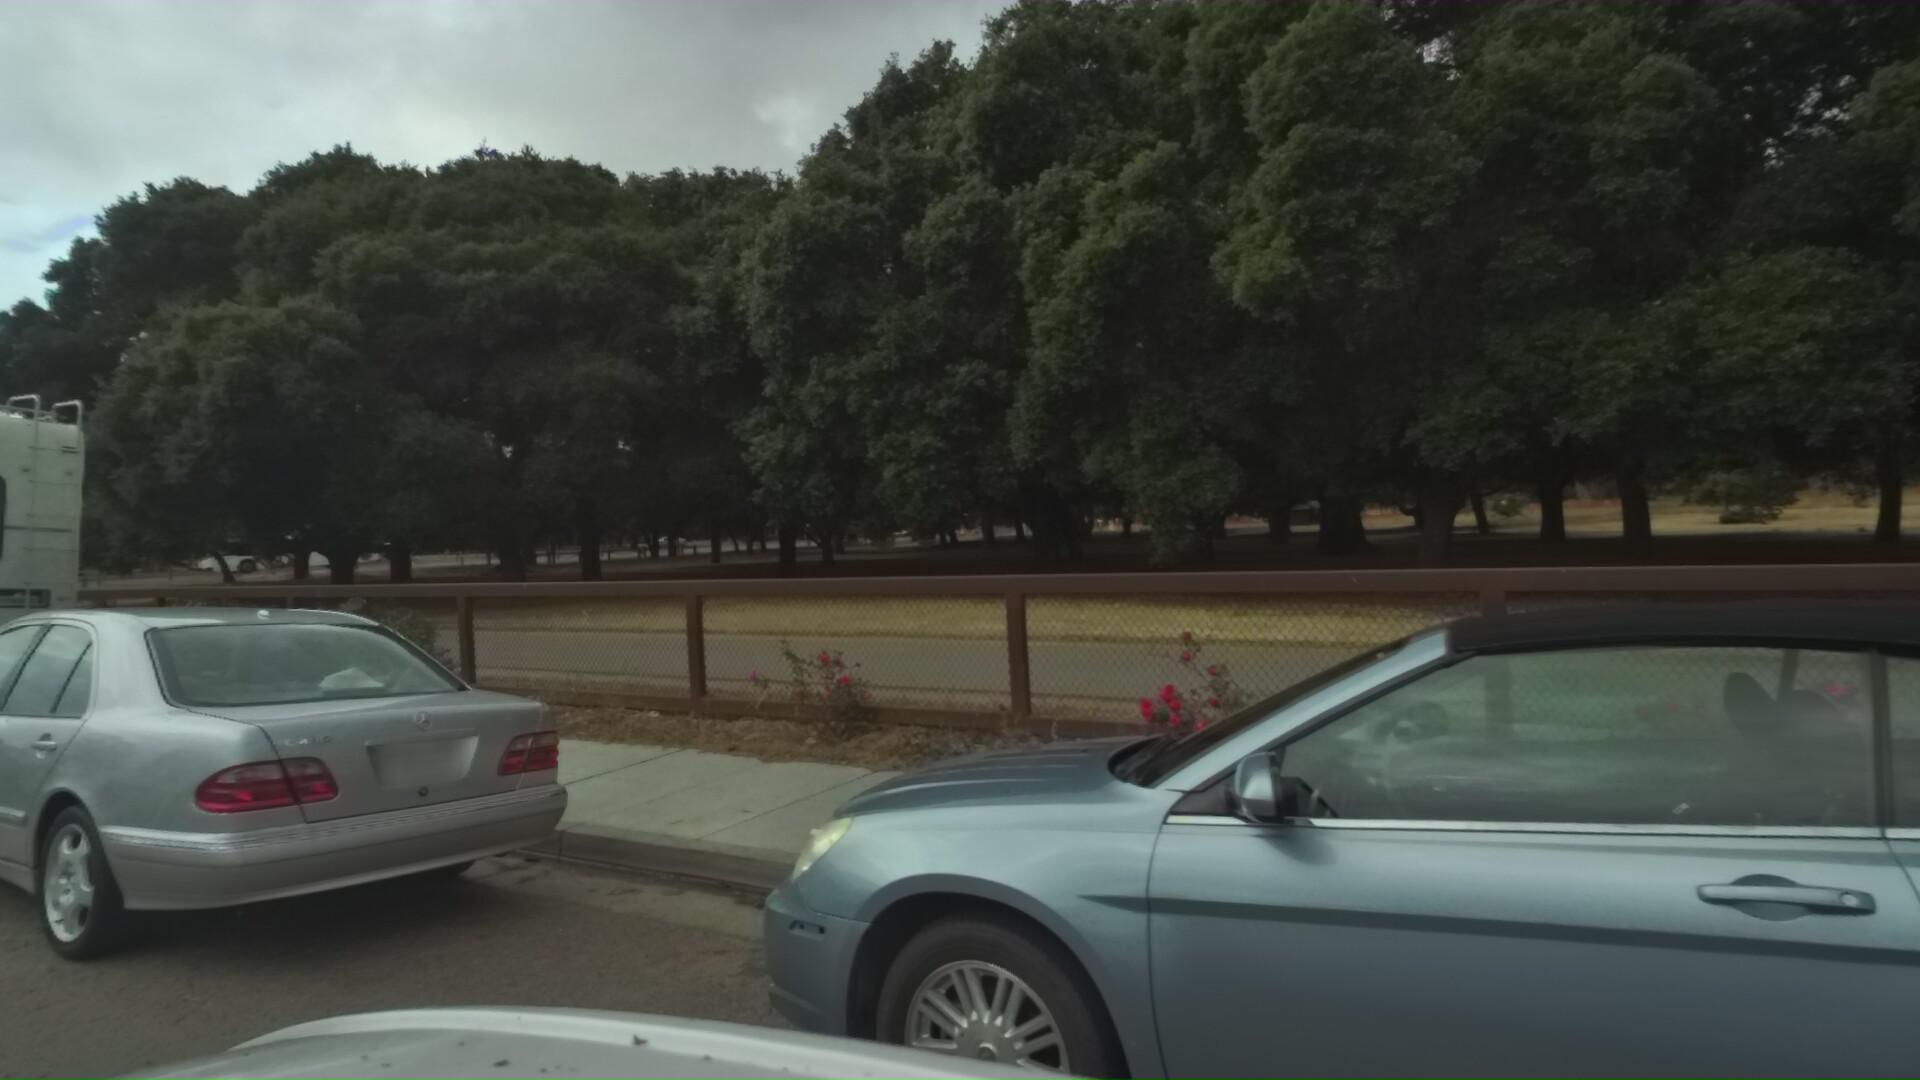bus: (178, 514, 385, 571)
car: (688, 600, 1920, 1080), (0, 593, 649, 1080)
other_vehicle: (0, 299, 199, 876)
